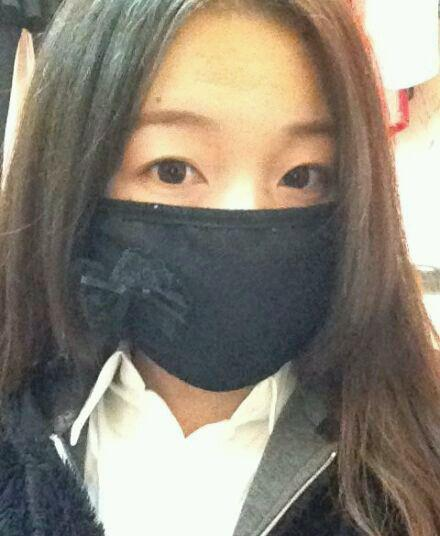OK: (92, 113, 347, 368)
